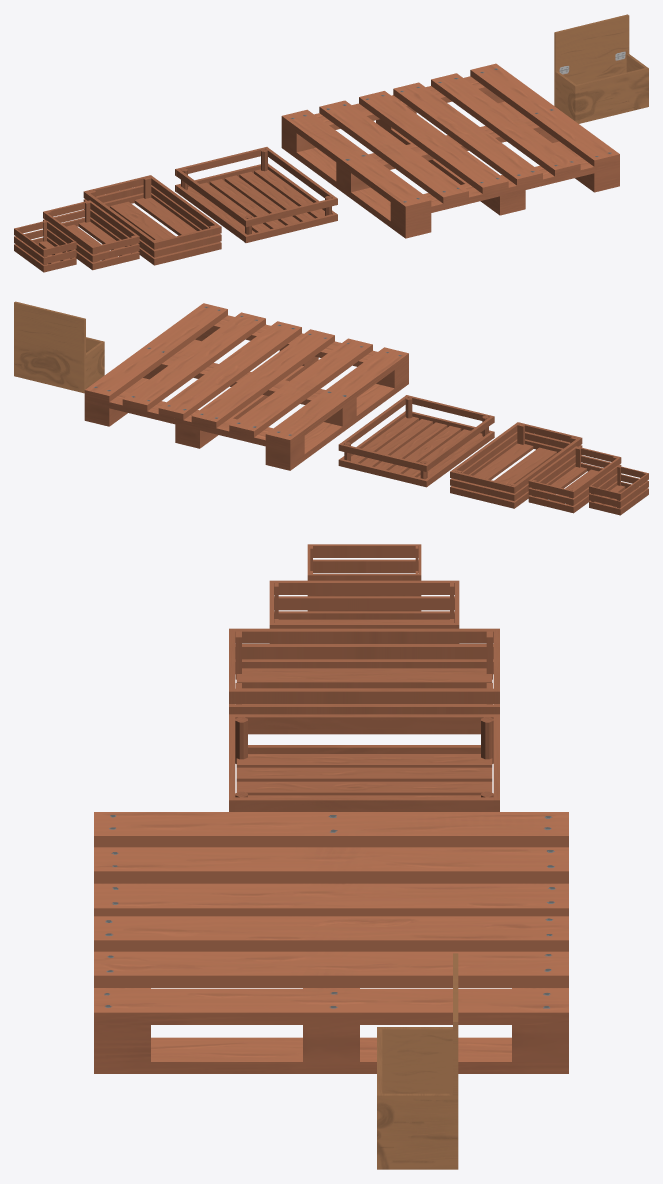
File: wooden_furniture_pack.glb
3 renders of one model, top to bottom at view 1: azimuth 30°, elevation 25°; view 2: azimuth 150°, elevation 25°; view 3: azimuth 270°, elevation 25°, orthographic. The views are drawn at different scales.
Visible parts, largest first — view 1: Pallet_madeira_1, Bandeija_madeira_0, Bau_madeira_5, Caixote_madeira_grande_2, Caixote_madeira_medio_3, Caixote_madeira_pequeno_4; view 2: Pallet_madeira_1, Bandeija_madeira_0, Bau_madeira_5, Caixote_madeira_grande_2, Caixote_madeira_medio_3, Caixote_madeira_pequeno_4; view 3: Pallet_madeira_1, Caixote_madeira_grande_2, Bandeija_madeira_0, Bau_madeira_5, Caixote_madeira_medio_3, Caixote_madeira_pequeno_4.
Boxes of the visible parts, left/top/right/bottom form: Pallet_madeira_1: left=281, top=63, right=619, bottom=238; Bandeija_madeira_0: left=175, top=147, right=337, bottom=242; Bau_madeira_5: left=554, top=14, right=648, bottom=123; Caixote_madeira_grande_2: left=83, top=175, right=221, bottom=265; Caixote_madeira_medio_3: left=43, top=200, right=139, bottom=270; Caixote_madeira_pequeno_4: left=14, top=220, right=76, bottom=272; Pallet_madeira_1: left=84, top=303, right=408, bottom=470; Bandeija_madeira_0: left=338, top=395, right=494, bottom=487; Bau_madeira_5: left=14, top=301, right=104, bottom=393; Caixote_madeira_grande_2: left=450, top=422, right=582, bottom=508; Caixote_madeira_medio_3: left=528, top=446, right=621, bottom=513; Caixote_madeira_pequeno_4: left=589, top=465, right=648, bottom=515; Pallet_madeira_1: left=94, top=812, right=568, bottom=1073; Caixote_madeira_grande_2: left=229, top=628, right=499, bottom=734; Bandeija_madeira_0: left=229, top=714, right=499, bottom=811; Bau_madeira_5: left=377, top=953, right=458, bottom=1169; Caixote_madeira_medio_3: left=269, top=580, right=459, bottom=643; Caixote_madeira_pequeno_4: left=307, top=544, right=421, bottom=611.
Bounding box in the file's own units: 2.03 × 0.241 × 0.7.
6 materials, 6 textured.
